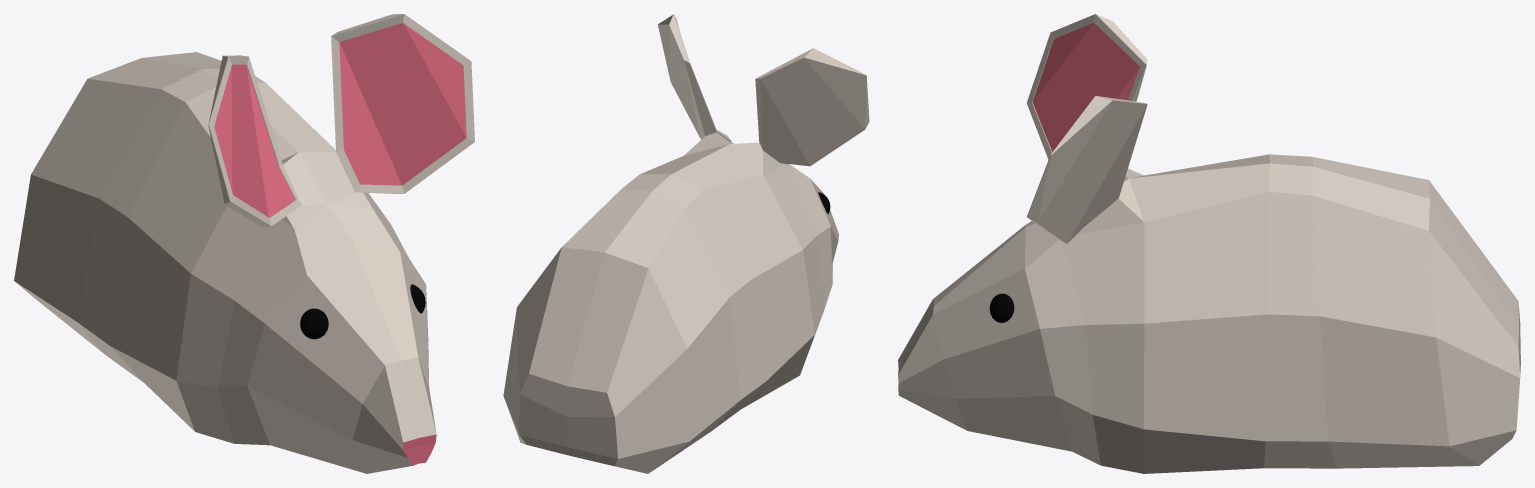
File: mouse.glb
3 renders of one model, left to right at view 1: azimuth 30°, elevation 25°; view 2: azimuth 150°, elevation 25°; view 3: azimuth 270°, elevation 25°, orthographic. The views are drawn at different scales.
Visible parts, largest first — view 1: souris; view 2: souris; view 3: souris.
Part boxes in pixels (x1=…): souris: x1=14, y1=14, x2=474, y2=473; souris: x1=503, y1=14, x2=869, y2=473; souris: x1=898, y1=14, x2=1520, y2=473.
Bounding box in the file's own units: 0.8524 × 1.21 × 1.83.
